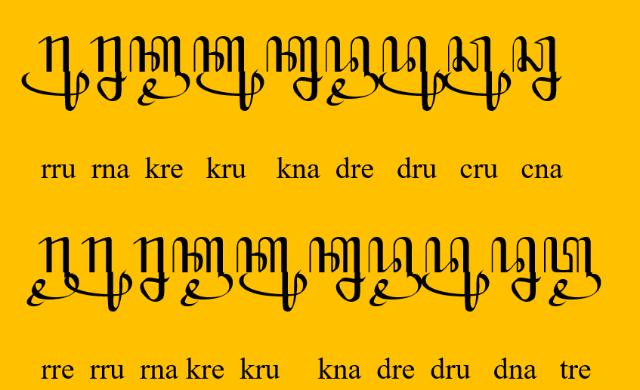cn: (512, 34, 562, 101)
cru: (444, 36, 512, 112)
dn: (492, 236, 542, 302)
dre: (368, 236, 422, 308), (325, 36, 379, 106)
dru: (378, 36, 446, 112), (421, 237, 489, 313)
kn: (265, 36, 323, 102), (308, 236, 366, 302)
kre: (129, 35, 191, 107), (171, 236, 233, 308)
kru: (192, 36, 264, 112), (236, 237, 308, 313)
rn: (133, 236, 171, 304), (90, 36, 128, 102)
rre: (26, 236, 78, 308)
rru: (21, 35, 89, 111), (65, 236, 133, 312)
tre: (543, 236, 601, 308)
